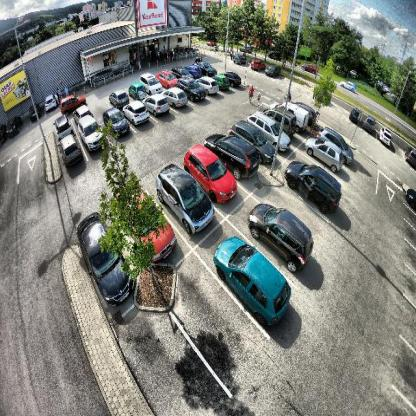free: (128, 322, 196, 398), (192, 289, 249, 371), (280, 188, 322, 224)
occupied: (221, 237, 287, 330), (82, 214, 136, 301), (122, 183, 170, 251), (255, 204, 312, 260), (165, 166, 209, 231), (288, 160, 344, 204), (187, 140, 228, 192), (209, 130, 254, 171), (234, 117, 278, 158), (256, 109, 288, 145), (78, 116, 103, 155), (308, 134, 337, 166), (278, 96, 306, 125), (271, 103, 296, 134), (58, 138, 82, 167), (107, 107, 126, 140), (302, 94, 320, 126), (126, 100, 148, 126), (324, 123, 350, 145), (148, 93, 170, 118), (144, 67, 164, 91), (166, 85, 188, 106), (184, 80, 205, 100), (128, 79, 149, 98), (200, 75, 218, 96), (64, 94, 90, 108), (111, 87, 131, 105), (226, 67, 243, 88), (57, 112, 74, 133), (160, 66, 176, 86), (266, 59, 281, 80), (202, 57, 220, 73), (216, 72, 229, 94), (250, 54, 264, 74), (78, 102, 95, 118), (233, 50, 248, 68), (175, 62, 189, 80), (190, 61, 203, 77)
